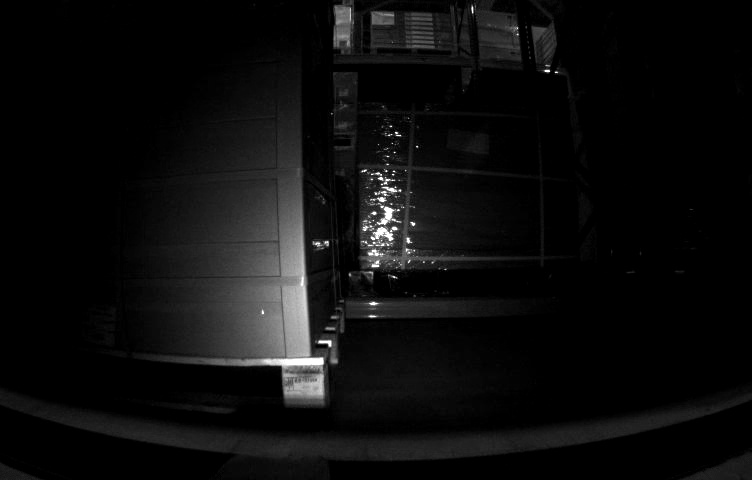True Barcode: (75, 304, 114, 343)
